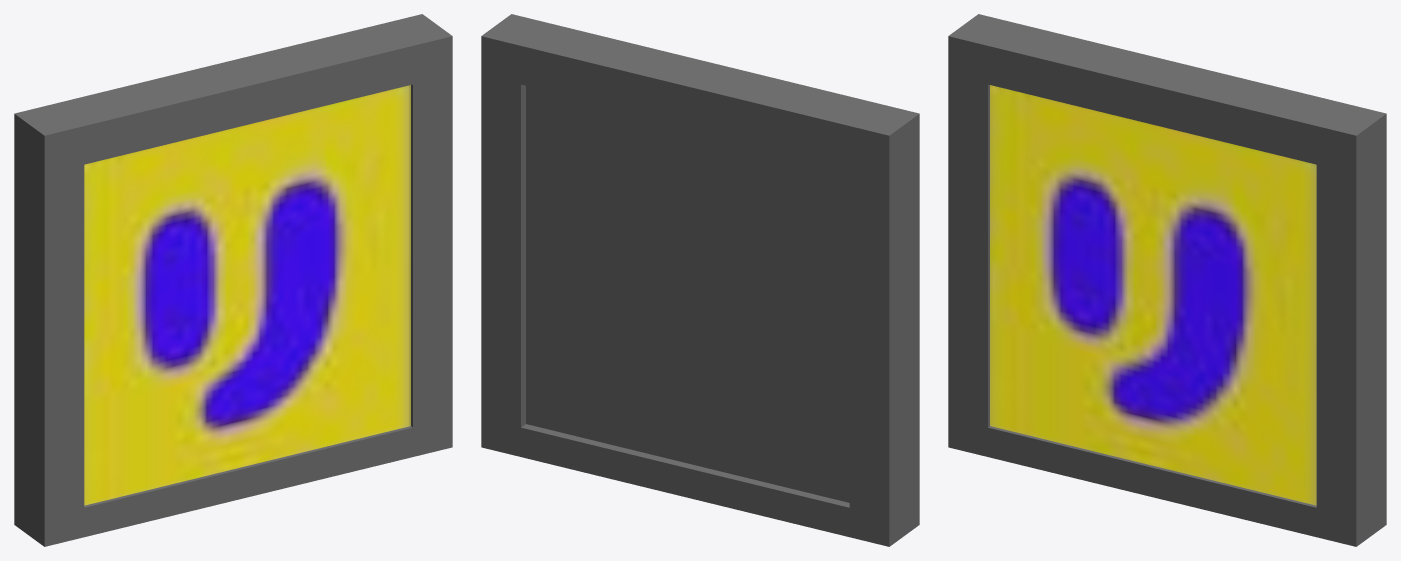
File: Sign_Small_3.glb
The picture shows the model from 3 angles, left to right: view 1: azimuth 30°, elevation 25°; view 2: azimuth 150°, elevation 25°; view 3: azimuth 330°, elevation 25°; orthographic projection.
Parts seen in each view (by area): view 1: Sign_Small_3; view 2: Sign_Small_3; view 3: Sign_Small_3.
Boxes of the visible parts, <box> form: Sign_Small_3: <box>14,14,452,546</box>; Sign_Small_3: <box>481,14,919,546</box>; Sign_Small_3: <box>948,14,1386,546</box>.
Size of the model in its own units: 0.4802 by 0.4622 by 0.0618.
2 materials, 1 textured.
